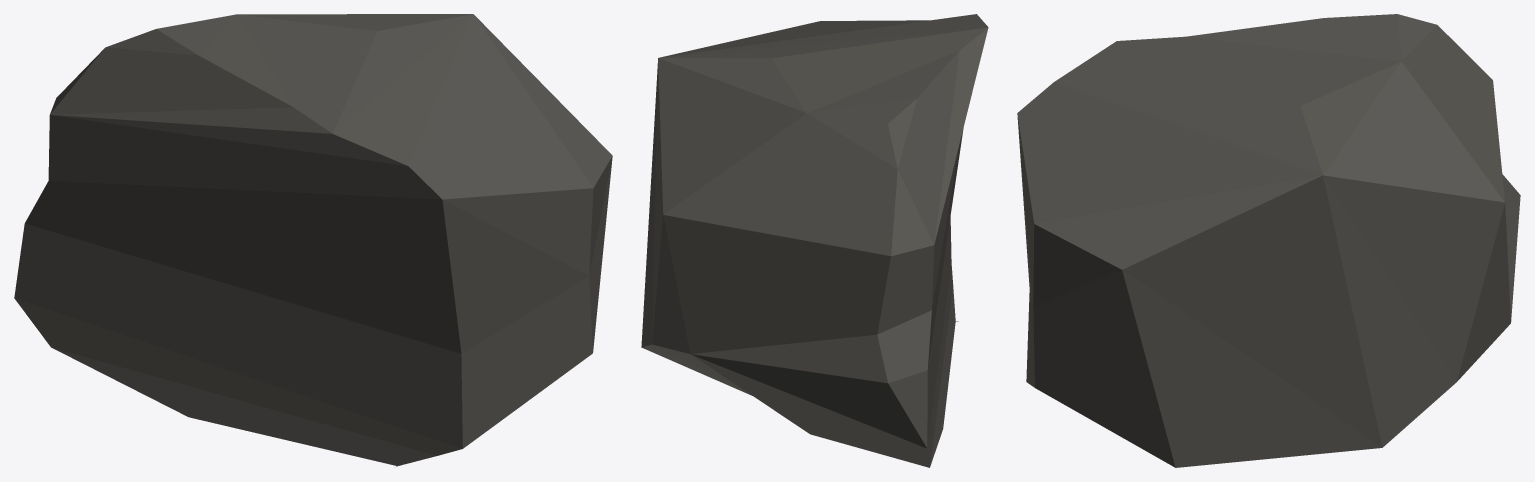
Rendered from env_rock1.gltf.
The picture shows the model from 3 angles, left to right: view 1: azimuth 30°, elevation 25°; view 2: azimuth 150°, elevation 25°; view 3: azimuth 270°, elevation 25°; orthographic projection. The views are drawn at different scales.
Visible parts, largest first — view 1: env_rock1; view 2: env_rock1; view 3: env_rock1.
Part boxes in pixels (left/top/right/bottom): env_rock1: left=14, top=14, right=612, bottom=466; env_rock1: left=641, top=14, right=988, bottom=467; env_rock1: left=1017, top=14, right=1520, bottom=467.
Bounding box in the file's own units: 0.3265 × 0.2681 × 0.3502.
Materials: 1 (1 with a texture image).
